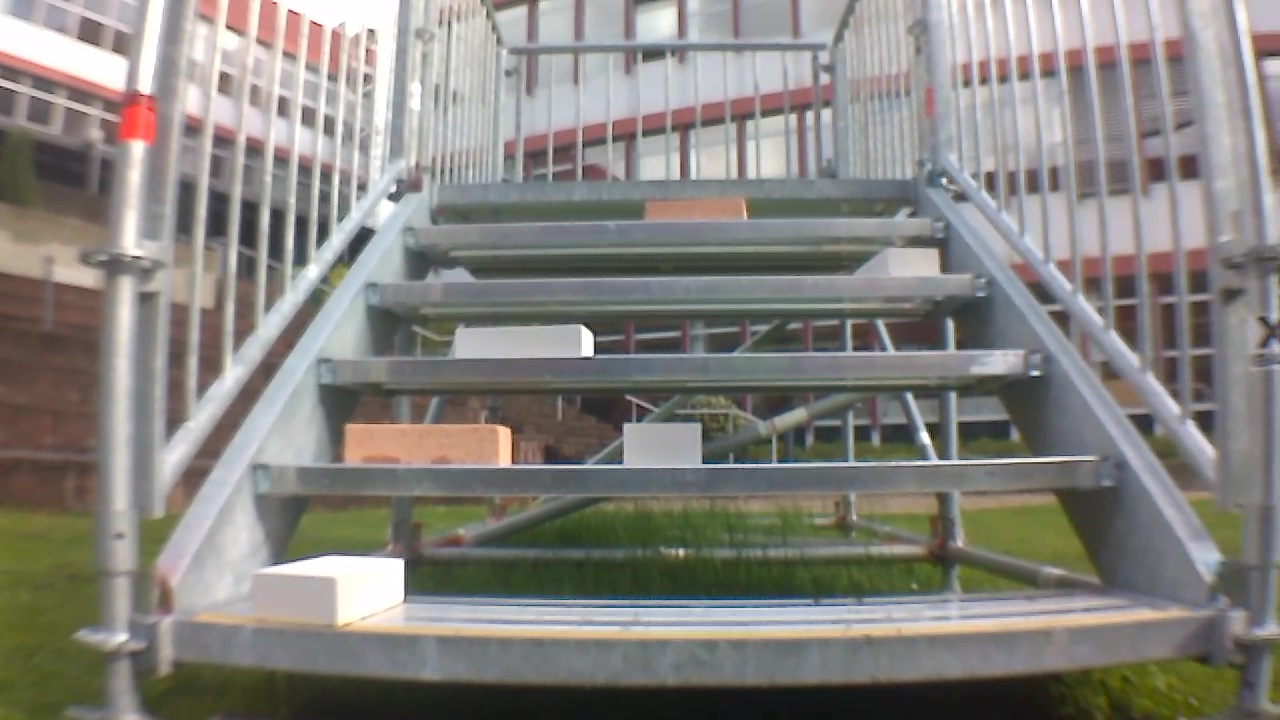brick: (248, 555, 412, 630), (345, 422, 512, 465), (451, 327, 597, 360), (849, 247, 945, 282), (621, 423, 704, 463), (644, 200, 748, 224)
edge: (169, 609, 1234, 673), (251, 454, 1121, 495), (315, 350, 1048, 384), (366, 275, 992, 305), (432, 177, 917, 206), (401, 221, 948, 246)
stairs: (102, 0, 1261, 712)
steps: (153, 174, 1249, 677)
